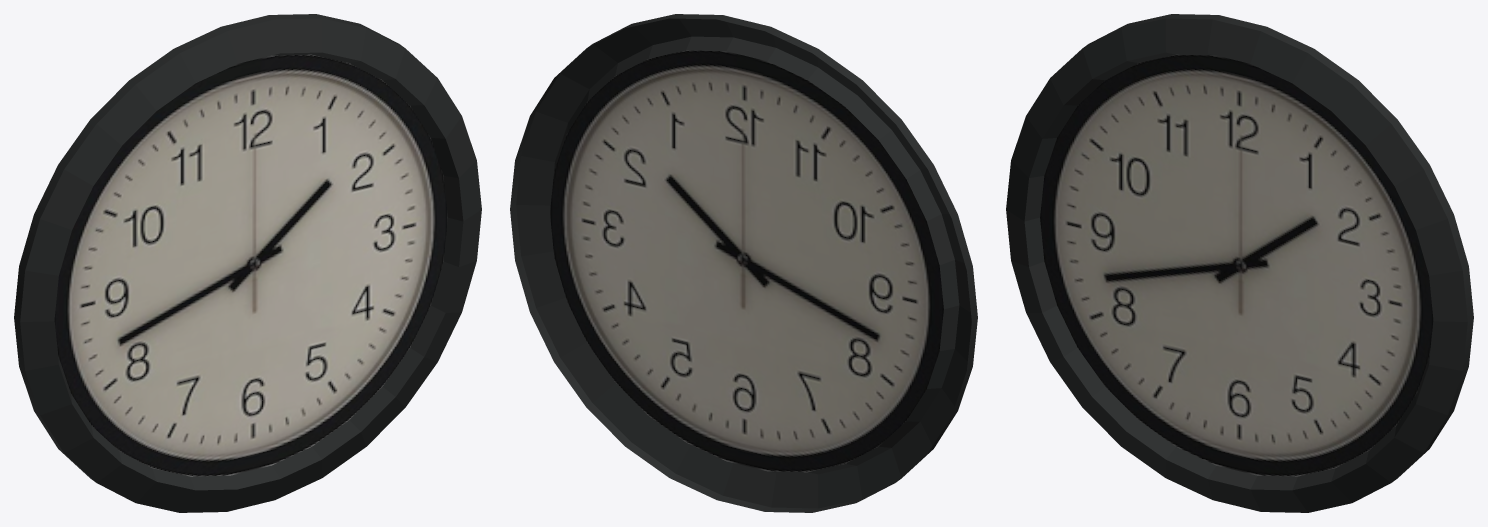
Rendered from clock.FBX.
The picture shows the model from 3 angles, left to right: view 1: azimuth 30°, elevation 25°; view 2: azimuth 150°, elevation 25°; view 3: azimuth 330°, elevation 25°; orthographic projection.
Visible parts, largest first — view 1: clock; view 2: clock; view 3: clock.
Boxes of the visible parts, x1,y1,x2,y2 form: clock: (14, 14, 481, 512); clock: (510, 14, 977, 512); clock: (1006, 14, 1473, 512).
Size of the model in its own units: 22.91 by 1.2 by 22.79.
